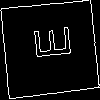E: (25, 23, 71, 62)
